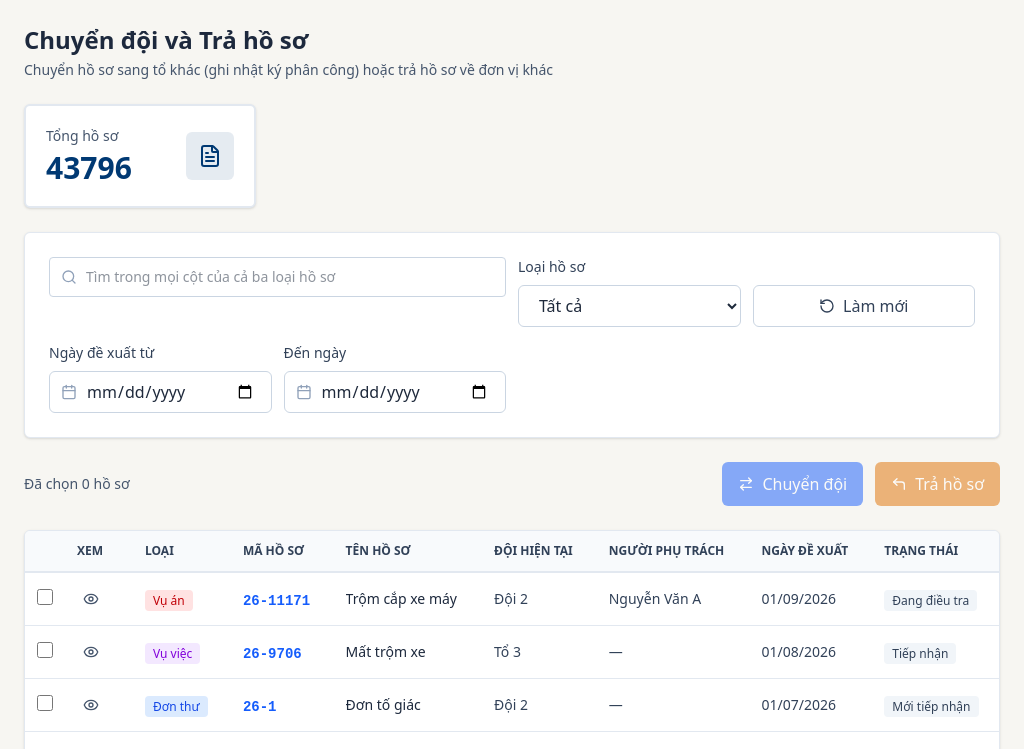
Test case: TransferAndReturnPage — dữ liệu thật, lọc ở máy chủ › Chuyển đội hỏng → nói rõ hồ sơ nào hỏng, không báo thành công giả
This screenshot has width=1024, height=749.
Expected: the row with test id "chuyen-tra-row-c1" is shown, [25,572,999,626]
Click the checkbox with test id "chon-c1" at (45, 597), box [37,589,53,605]
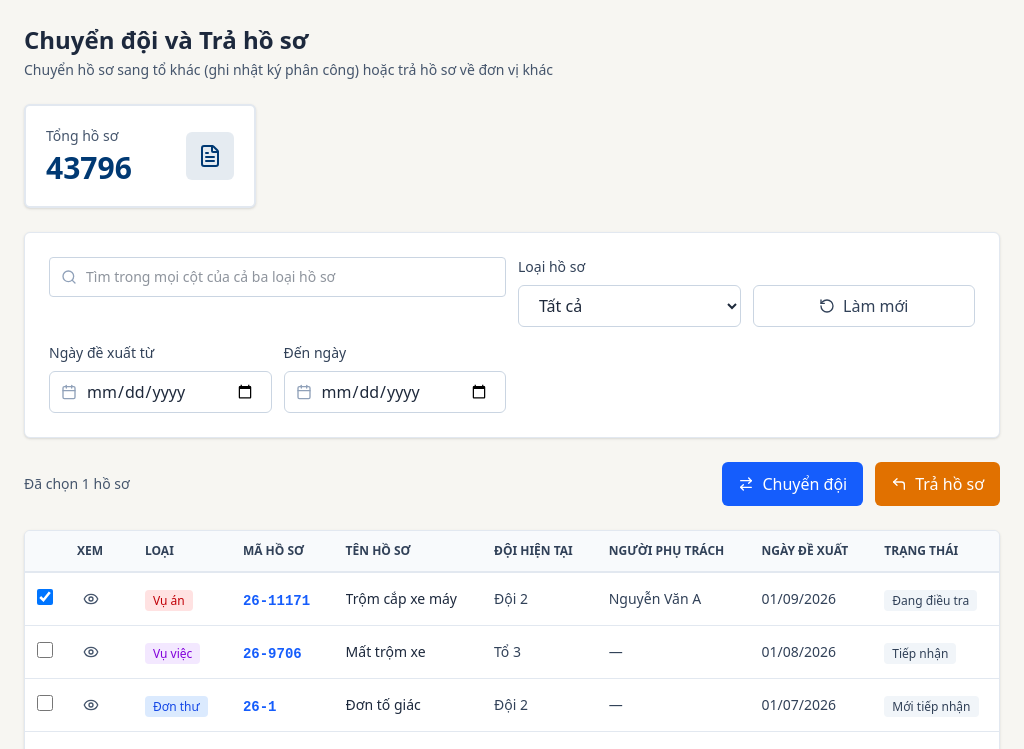
Click the button with test id "btn-chuyen-doi" at (793, 484), box [722,462,863,506]
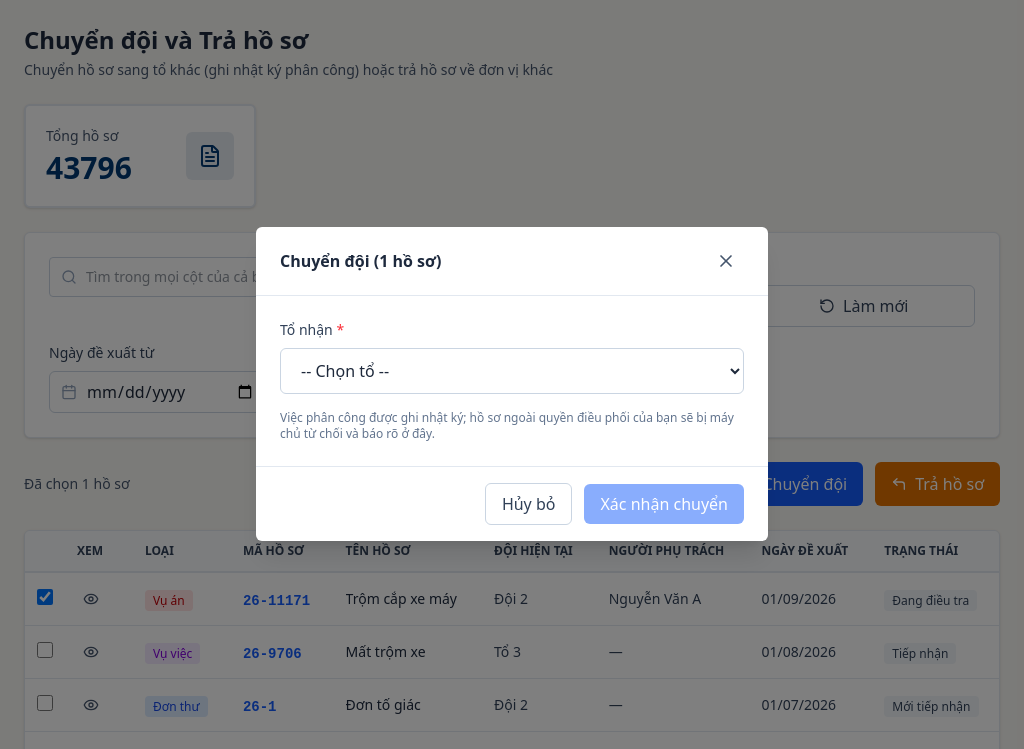
Select "Đội 5" in the dropdown with test id "chon-to-nhan" at (512, 371), box [280,348,744,394]
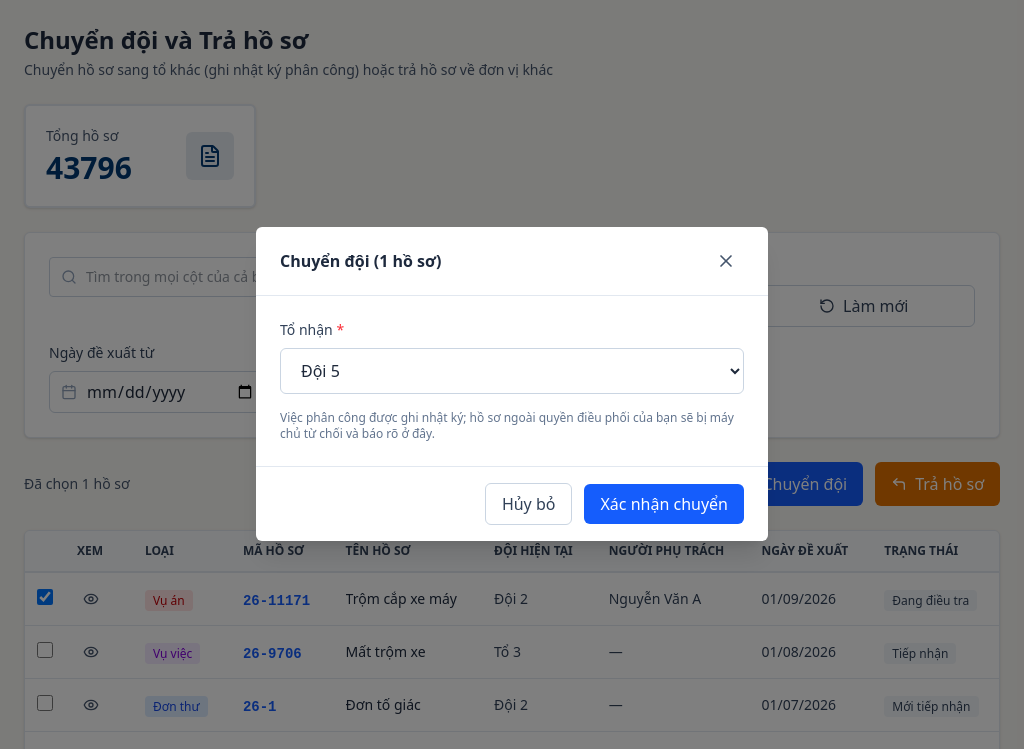
Click the button with test id "btn-xac-nhan-chuyen" at (664, 504), box [584,484,744,524]
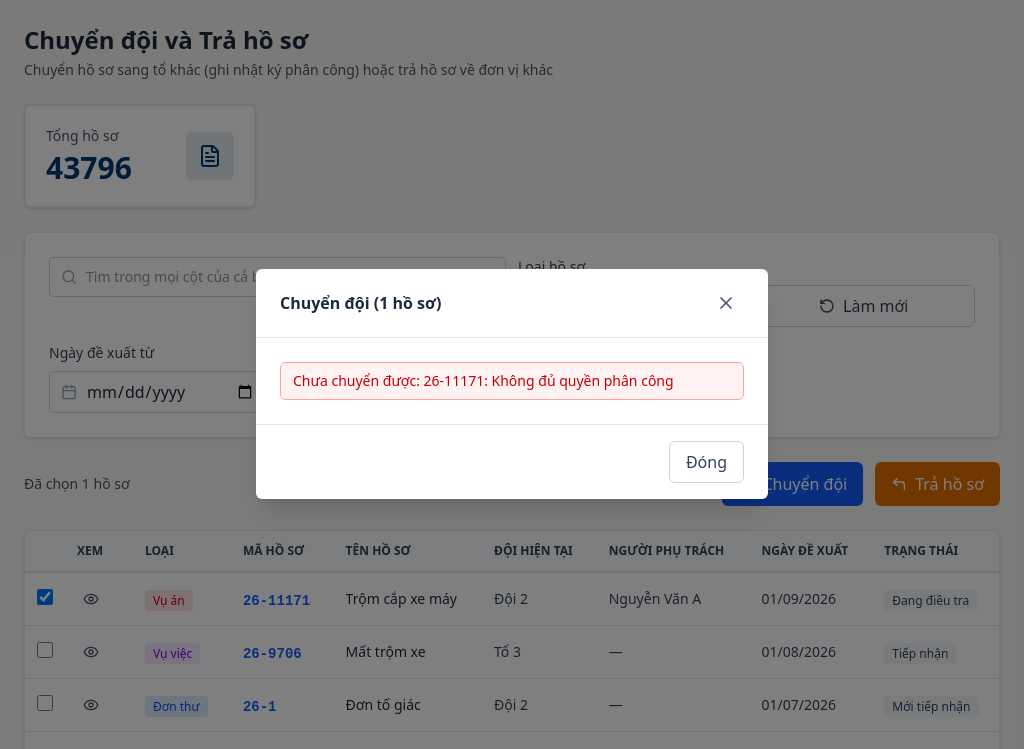
Now the element with test id "ket-qua-chuyen" shows "Không đủ quyền phân công", box [424,371,674,390]
